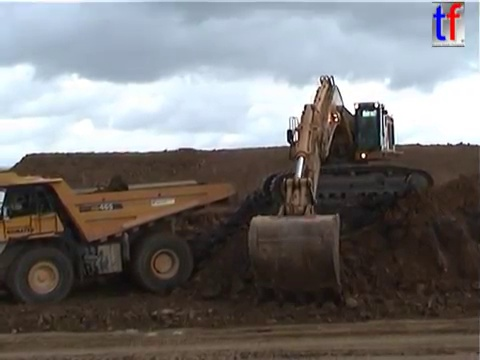excavator: (243, 72, 437, 307)
truck: (1, 167, 238, 308)
